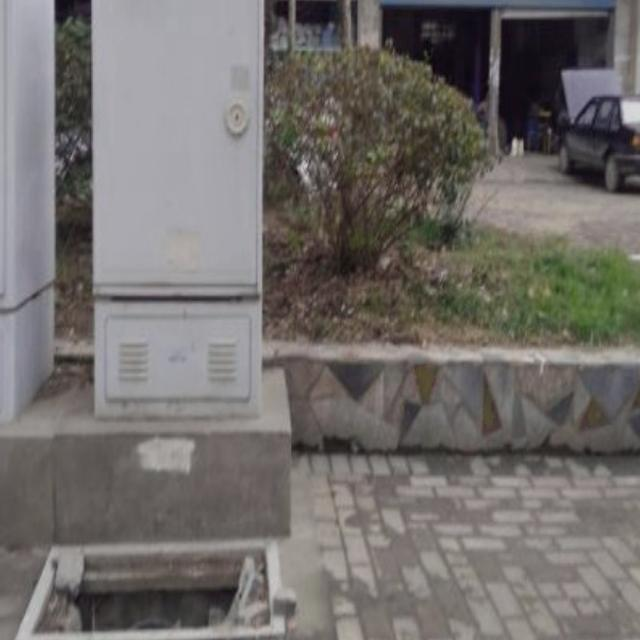lose: (14, 531, 285, 640)
